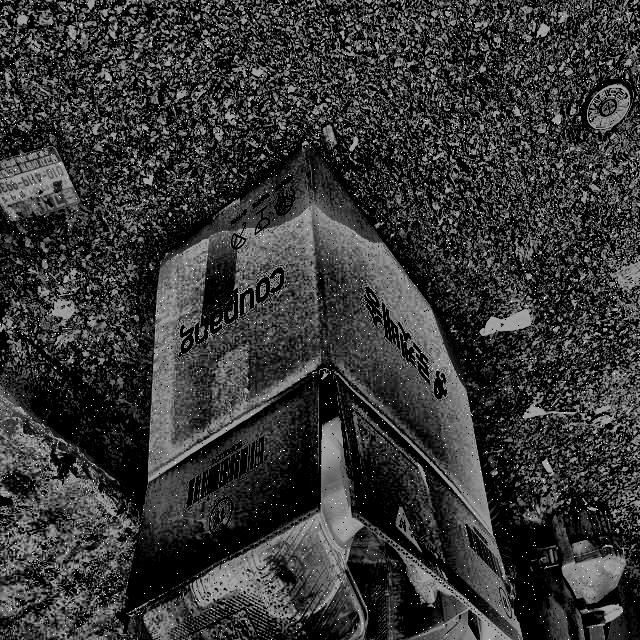box: (106, 150, 538, 640)
wet: (160, 144, 382, 277), (437, 311, 473, 391)
